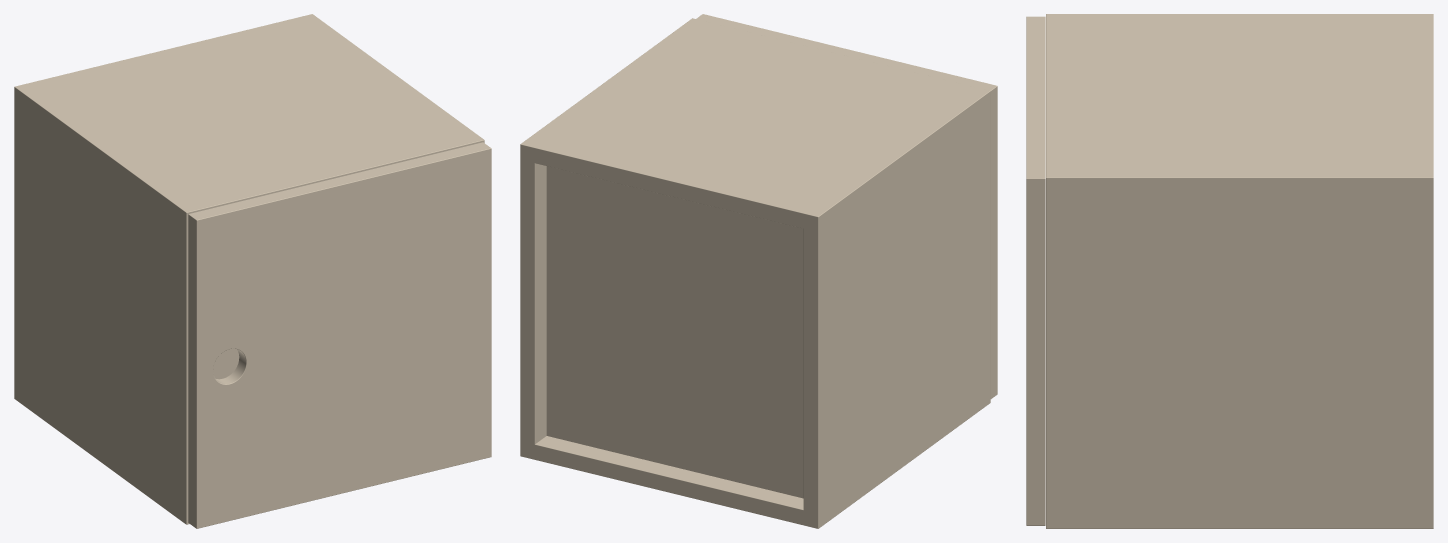
The model's file is MOD-1X1-D-B-IZQ-AR.glb.
3 renders of one model, left to right at view 1: azimuth 30°, elevation 25°; view 2: azimuth 150°, elevation 25°; view 3: azimuth 270°, elevation 25°, orthographic. The views are drawn at different scales.
Size of the model in its own units: 360 by 360 by 378.
